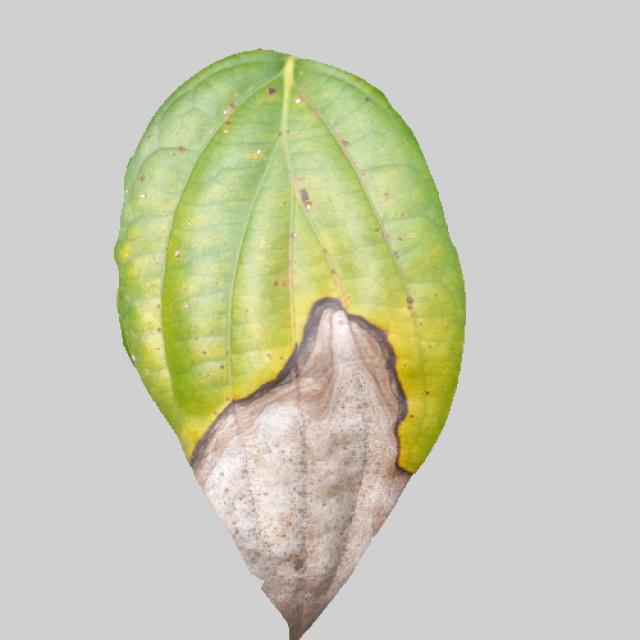leaf-blight: (110, 50, 470, 640)
